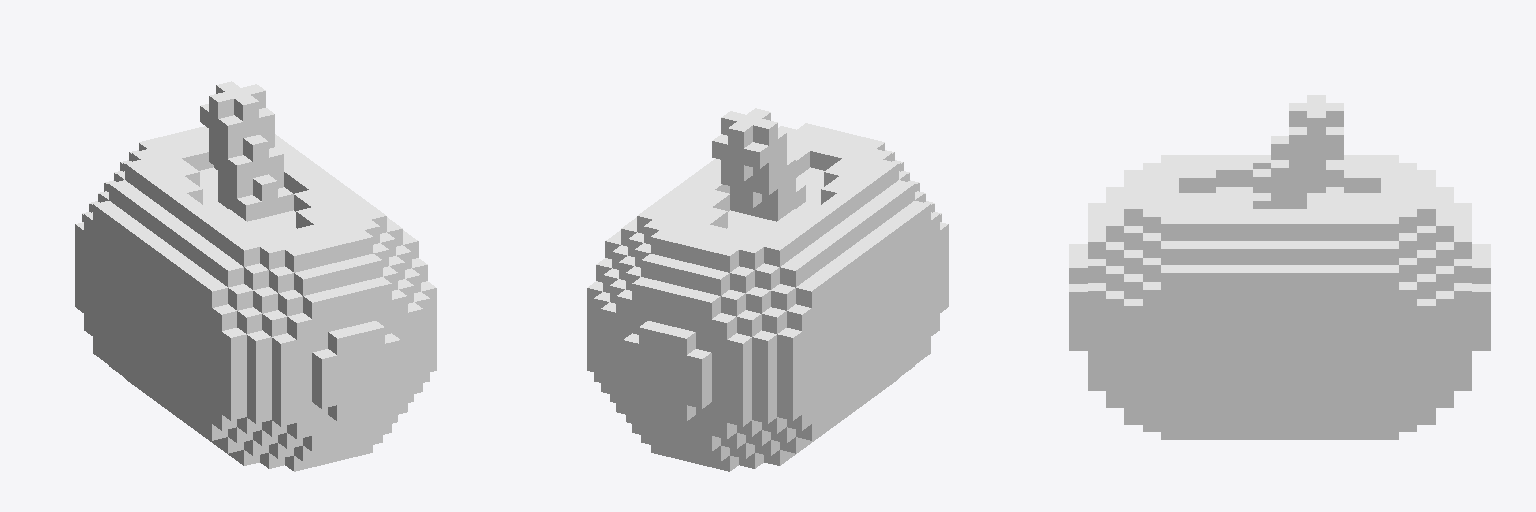
The model's file is pumpkin.vox.obj.
The picture shows the model from 3 angles: view 1: azimuth 30°, elevation 25°; view 2: azimuth 150°, elevation 25°; view 3: azimuth 270°, elevation 25°; orthographic projection.
Parts seen in each view (by area): view 1: object 1; view 2: object 1; view 3: object 1.
Boxes of the visible parts, x1=… form: object 1: x1=75, y1=81, x2=436, y2=471; object 1: x1=587, y1=108, x2=948, y2=471; object 1: x1=1069, y1=95, x2=1490, y2=439.
Bounding box in the file's own units: 1.3 × 1.8 × 2.3.